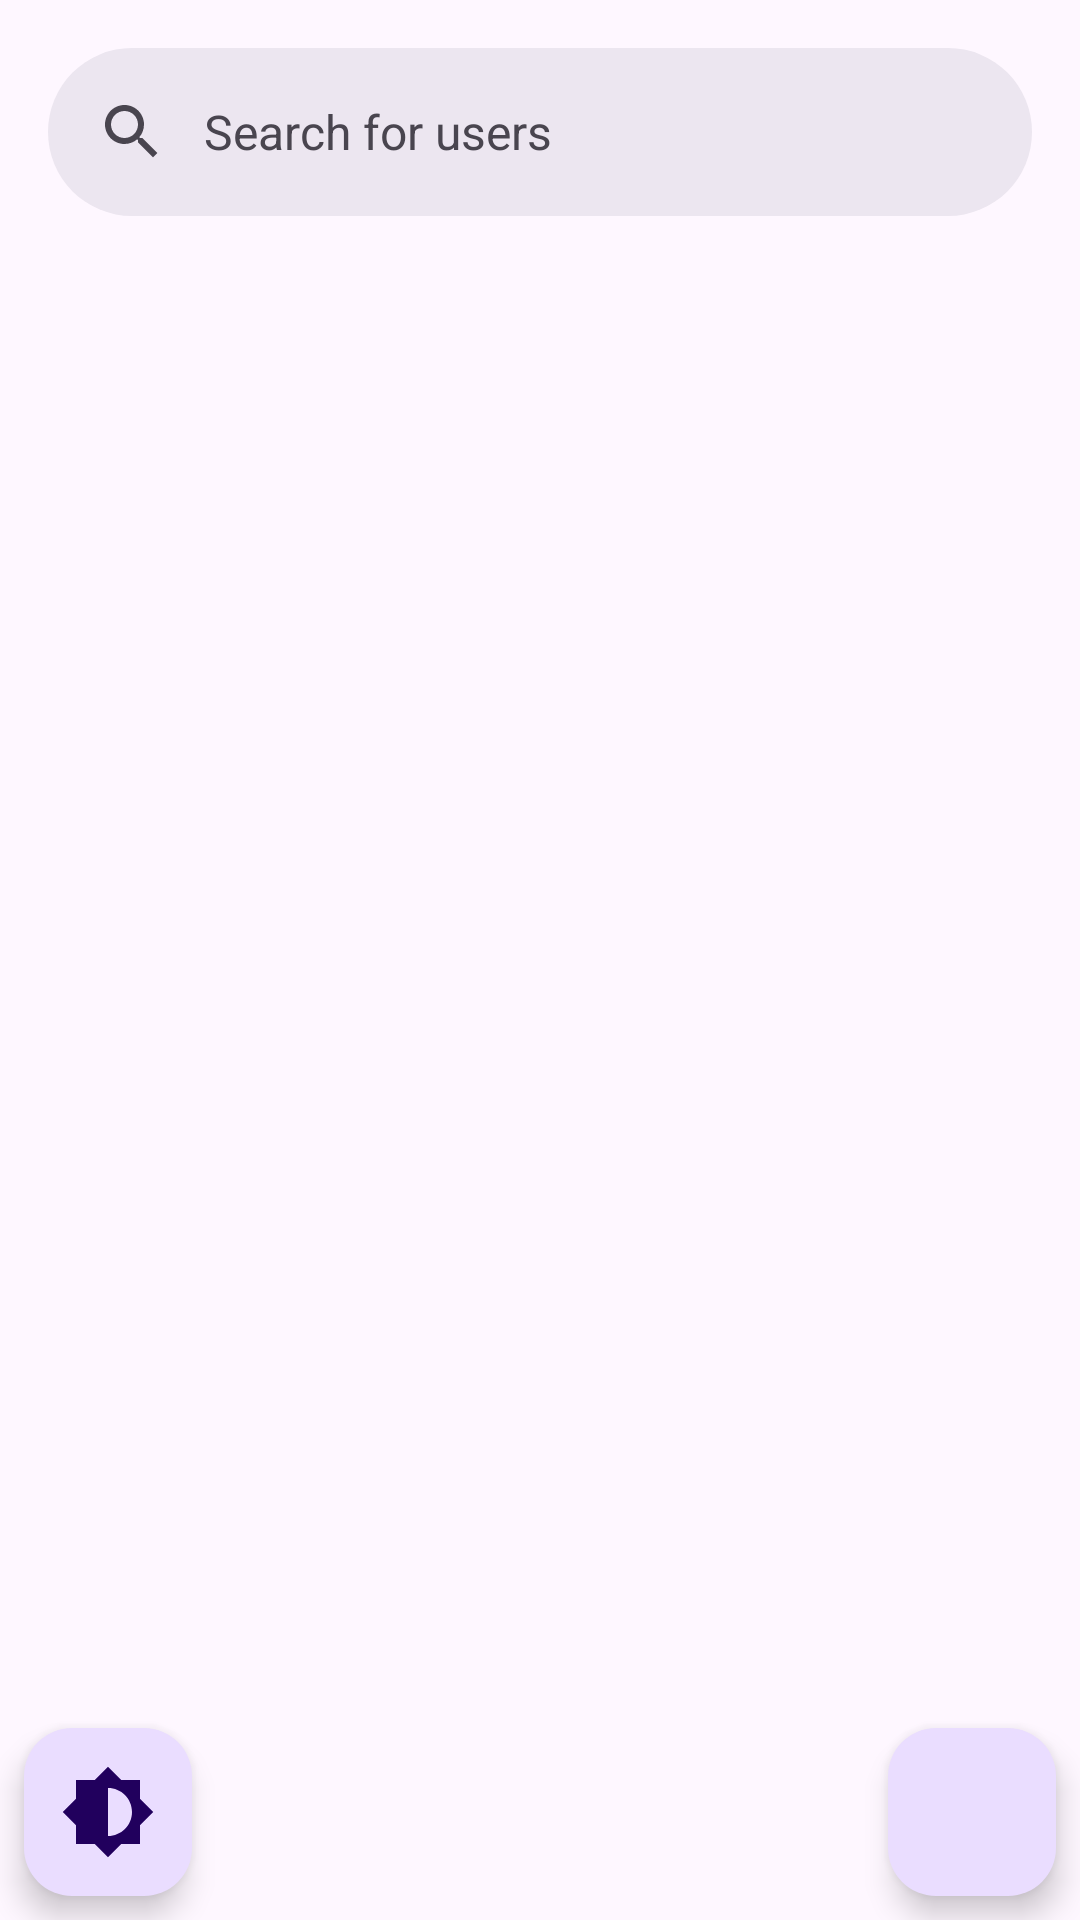

Icon click points for this 1080px x 1920px phone screenshot, format (x,y):
theme: (108,1812)
